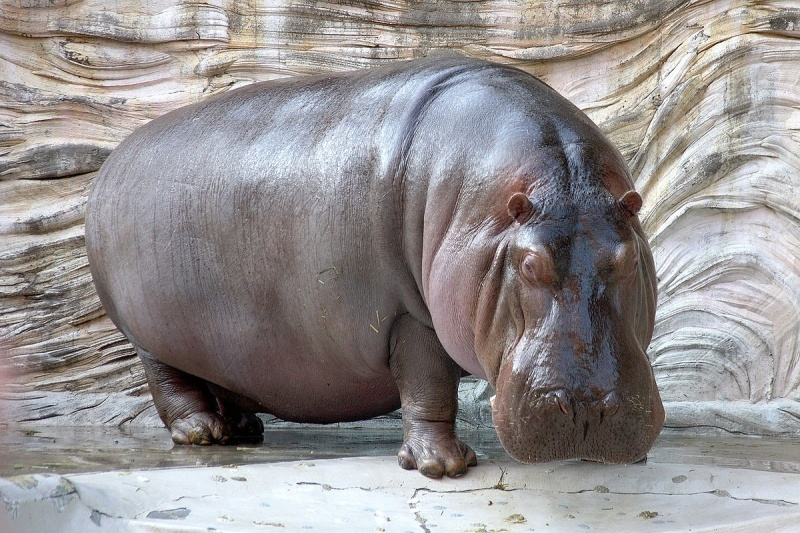hipopotamo: (68, 37, 708, 492)
